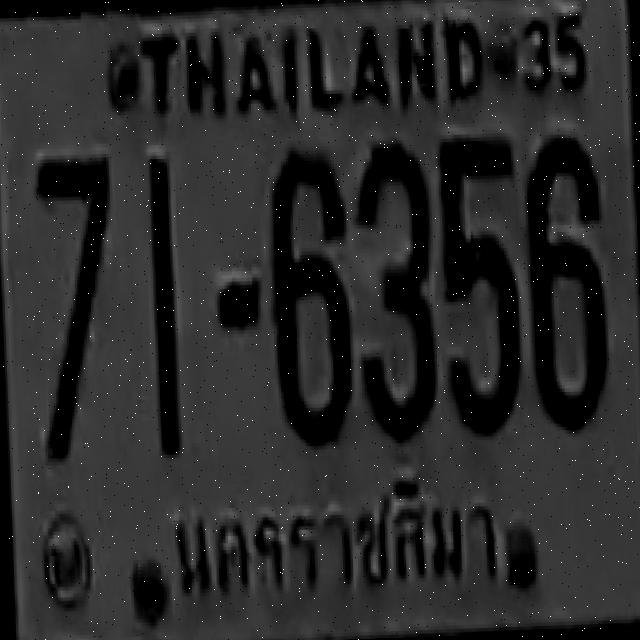1: (146, 155, 178, 413)
3: (350, 138, 434, 438)
5: (436, 134, 522, 432)
6: (522, 131, 608, 429), (264, 146, 350, 444)
7: (32, 154, 115, 440), (32, 154, 113, 382), (32, 154, 112, 334)
NakhonRatchasima: (160, 466, 517, 610)
